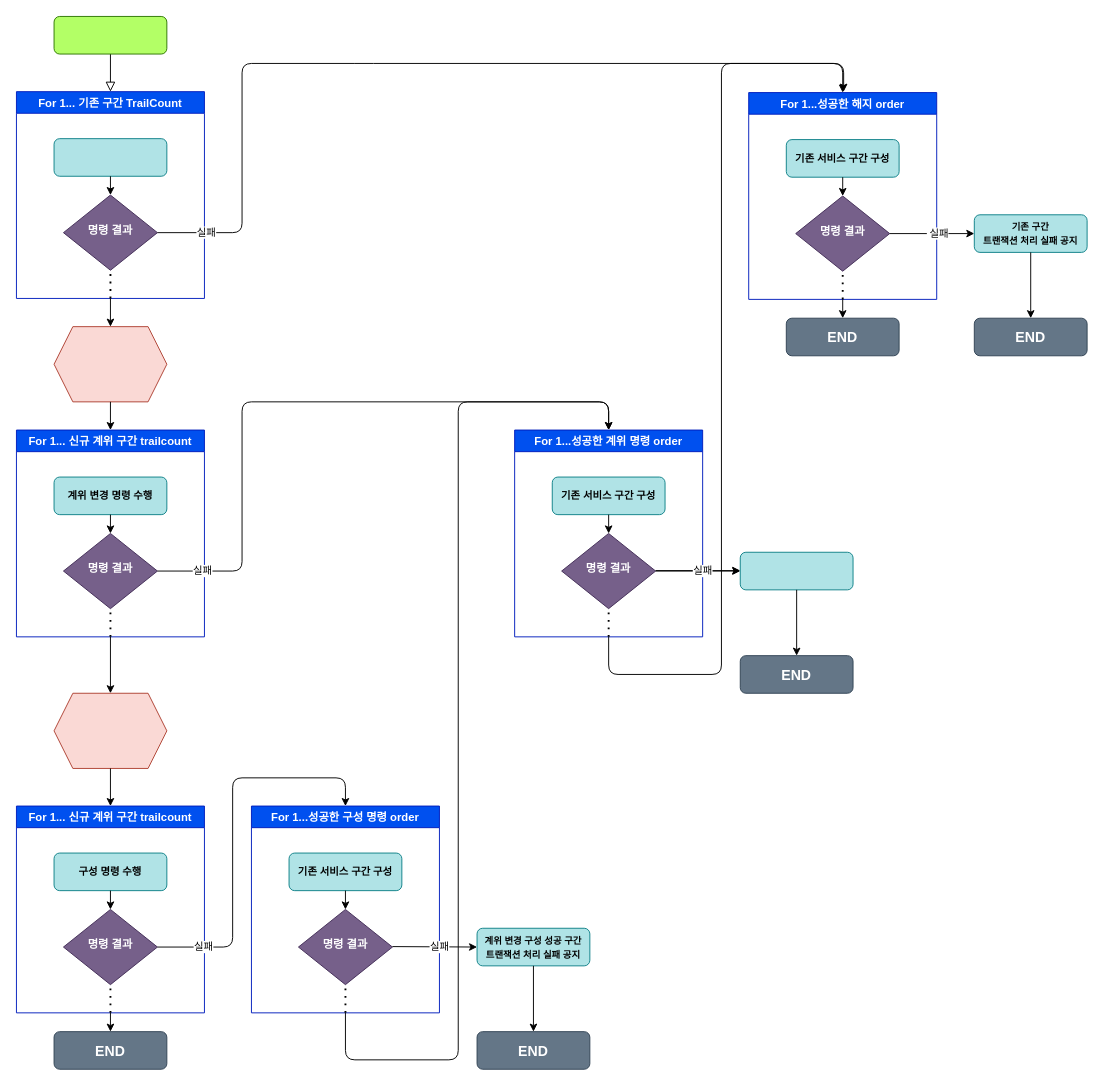
Image size: 1104x1086. Some labels were removed from this diagram. The centre of each missing label's shape, as x and y in pixels:
"계위 변경 명령 수행 시작" goes at pixel 110 364.
"계위 변경 명령 트랜잭션 처리 실패 공지" goes at pixel 796 570.
"계위 변경 절체 시작" goes at pixel 110 35.
"기존 서비스 구간 해지" goes at pixel 110 157.
"신규 계위 구성 명령 시작" goes at pixel 110 730.
